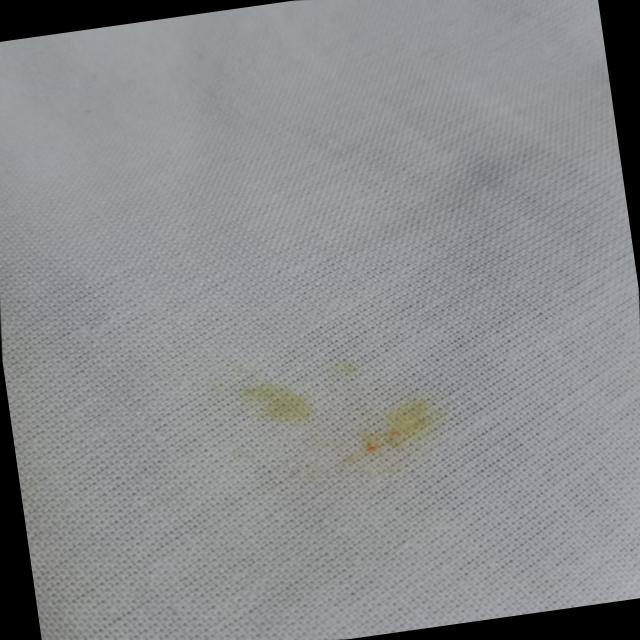stain: (209, 338, 475, 493)
